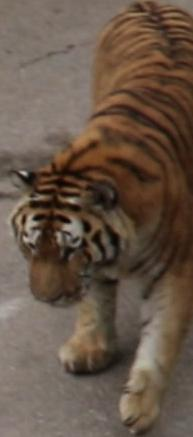tiger: (10, 0, 192, 432)
